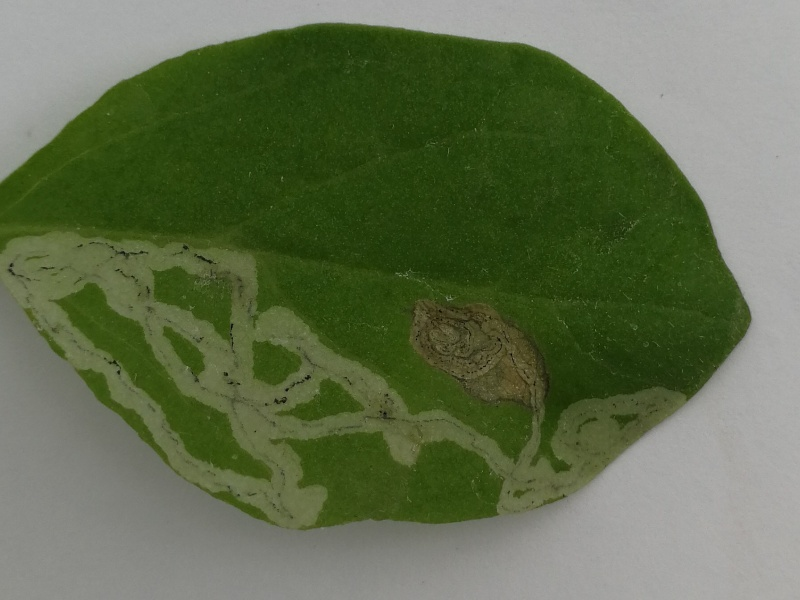leafminer: (3, 233, 701, 527)
